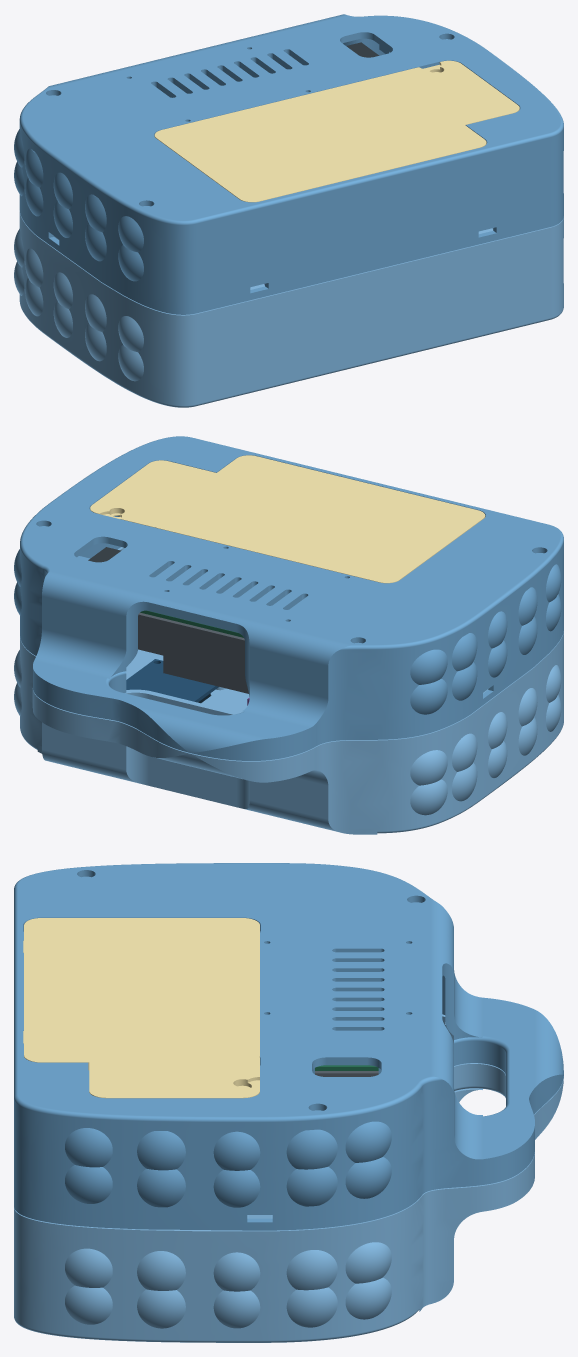
Rendered from cloud-radio.glb.
3 renders of one model, top to bottom at view 1: azimuth 30°, elevation 25°; view 2: azimuth 150°, elevation 25°; view 3: azimuth 270°, elevation 25°, orthographic. The views are drawn at different scales.
Parts seen in each view (by area): view 1: rear, front, battery_door; view 2: rear, front, battery_door, connector_pi_ports, connector_gpio, component_lcd; view 3: rear, front, battery_door.
Part boxes in pixels (x1,y1,x2,y2): rear: [14, 14, 563, 314]; front: [14, 211, 563, 407]; battery_door: [154, 60, 519, 202]; rear: [14, 436, 563, 760]; front: [14, 547, 563, 834]; battery_door: [90, 455, 485, 583]; connector_pi_ports: [138, 612, 244, 675]; connector_gpio: [163, 619, 248, 693]; component_lcd: [126, 659, 218, 702]; rear: [14, 863, 563, 1230]; front: [14, 1014, 563, 1342]; battery_door: [23, 918, 259, 1098].
Size of the model in its own units: 0.215 by 0.086 by 0.19.
